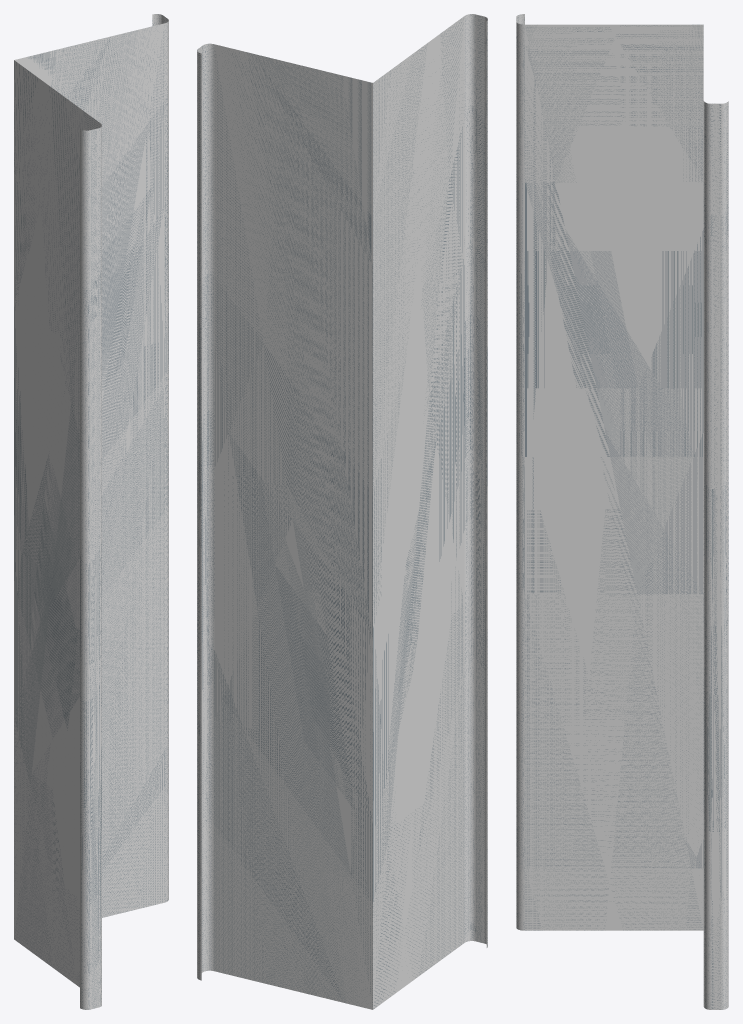
File: PW_CornerFixElem_os_T2_085x085x010x400.dae
The picture shows the model from 3 angles, left to right: view 1: azimuth 30°, elevation 25°; view 2: azimuth 150°, elevation 25°; view 3: azimuth 270°, elevation 25°; orthographic projection. The views are drawn at different scales.
Parts seen in each view (by area): view 1: group_0; view 2: group_0; view 3: group_0.
Part boxes in pixels (bbox=[...]): group_0: bbox=[14, 14, 168, 1009]; group_0: bbox=[197, 14, 487, 1009]; group_0: bbox=[516, 14, 728, 1009].
Size of the model in its own units: 33.46 by 33.46 by 157.
